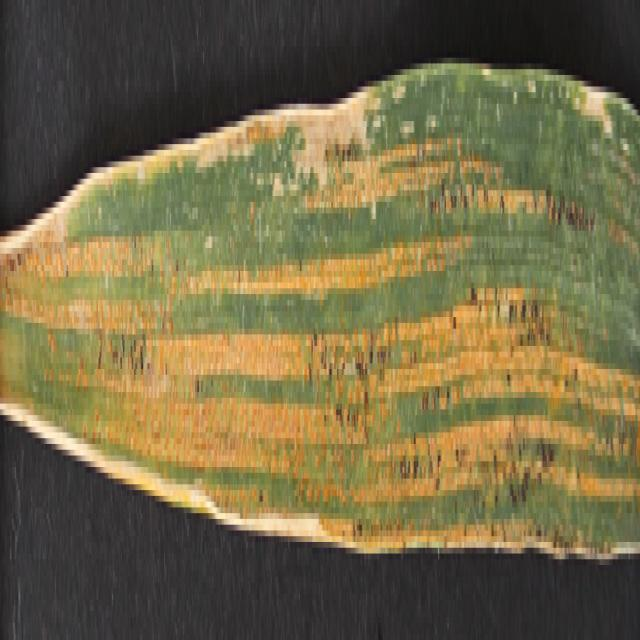leaf rust: (1, 127, 640, 530)
